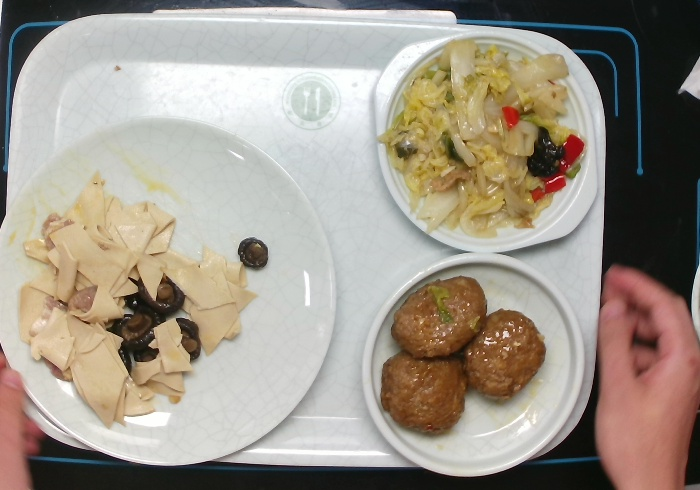JYsf-Da_Yuan_Pan: (1, 112, 363, 474)
JYsf-Shuang_Er_Pan: (362, 29, 605, 255)
JYsf-Xiao_Yuan_Pan: (356, 251, 589, 484)
